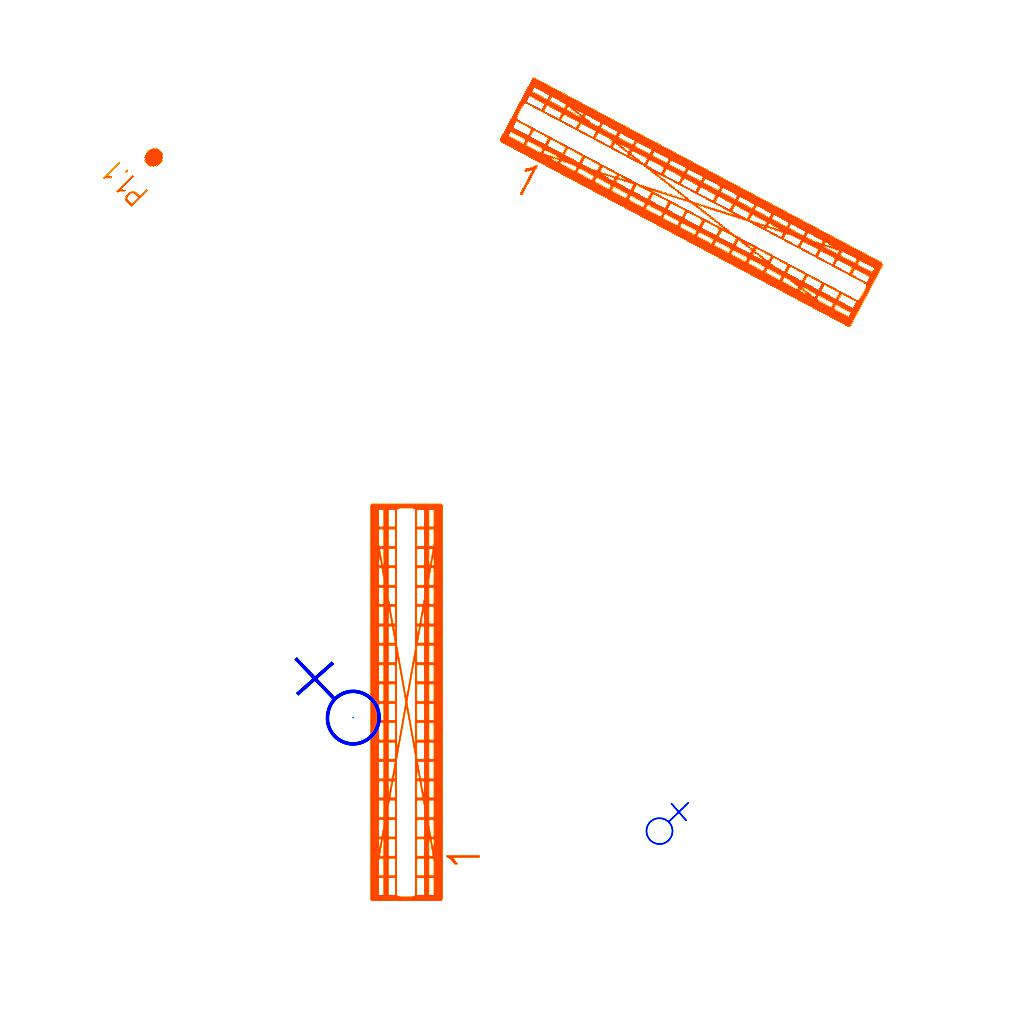Buero_Pendelleuchten_LED: (470, 64, 897, 374), (360, 495, 490, 908)
Downlight_LED_Einbauleuchten_Flur_2: (99, 132, 177, 210)
Elektroanschluss_allgemein_230V_Geraeteanschlussdose_230V: (289, 656, 383, 755), (641, 799, 690, 846)
